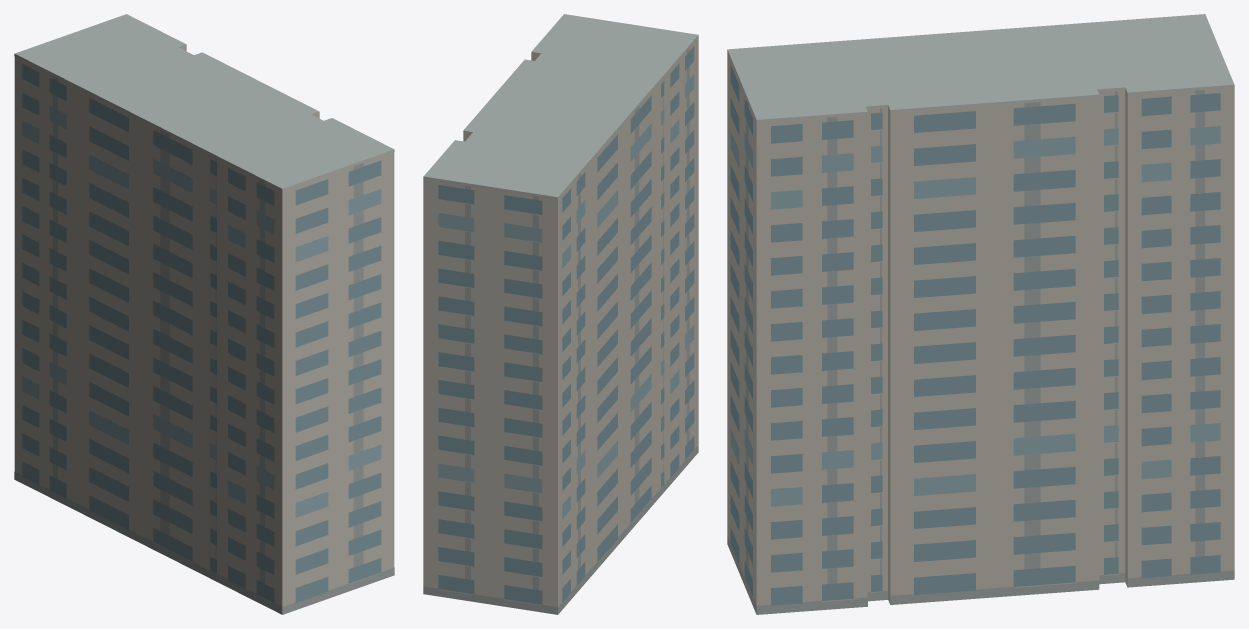
Rendered from residential-87c01433-cb98-40d5-8b94-20fe718180dc.glb.
3 views of the same model, side by side, from view 1: azimuth 30°, elevation 25°; view 2: azimuth 150°, elevation 25°; view 3: azimuth 270°, elevation 25° (orthographic). The views are drawn at different scales.
Visible parts, largest first — view 1: residential-87c01433-cb98-40d5-8b94-20fe718180dc.tmp; view 2: residential-87c01433-cb98-40d5-8b94-20fe718180dc.tmp; view 3: residential-87c01433-cb98-40d5-8b94-20fe718180dc.tmp.
Boxes of the visible parts, left/top/right/bottom form: residential-87c01433-cb98-40d5-8b94-20fe718180dc.tmp: left=14, top=14, right=394, bottom=614; residential-87c01433-cb98-40d5-8b94-20fe718180dc.tmp: left=423, top=14, right=698, bottom=614; residential-87c01433-cb98-40d5-8b94-20fe718180dc.tmp: left=727, top=14, right=1234, bottom=614.
Bounding box in the file's own units: 18.37 × 40 × 37.15.
